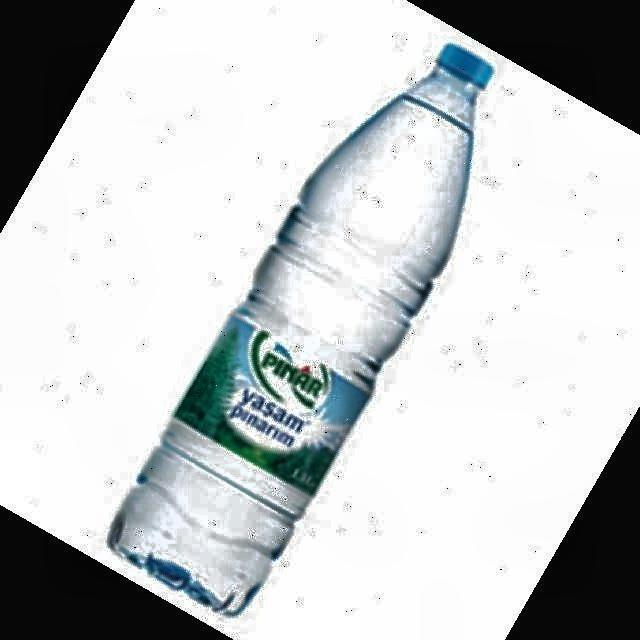plastic: (109, 45, 492, 614)
